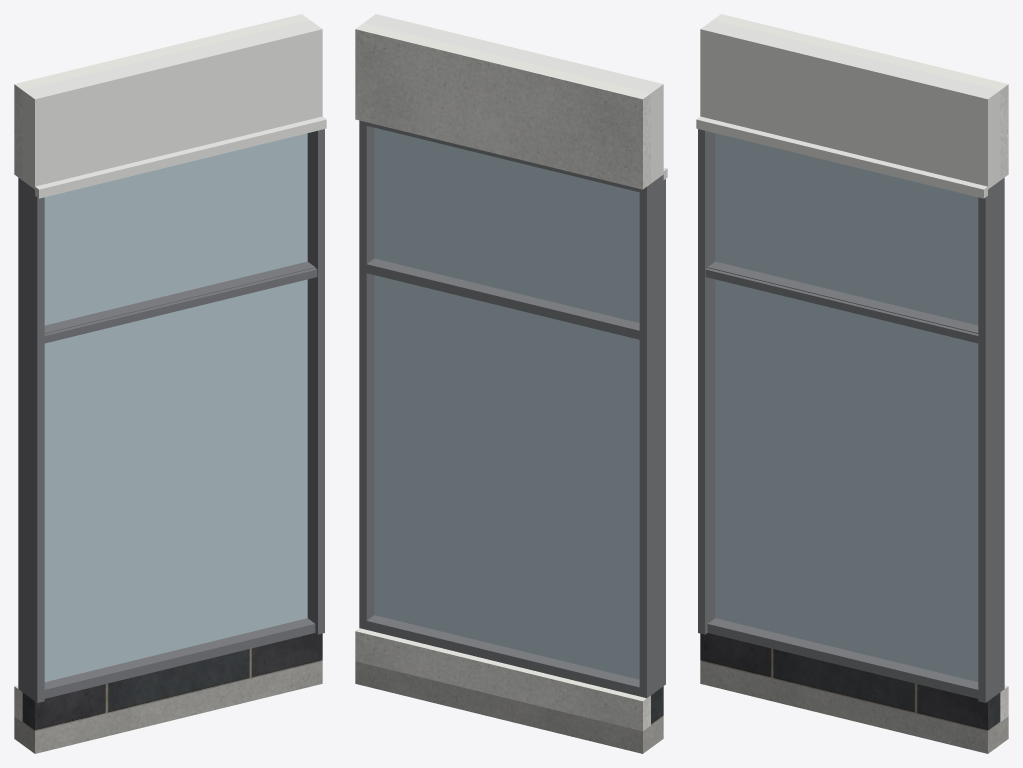
The model's file is s_win.glb.
3 views of the same model, side by side, from view 1: azimuth 30°, elevation 25°; view 2: azimuth 150°, elevation 25°; view 3: azimuth 330°, elevation 25° (orthographic).
Visible parts, largest first — view 1: s_win_glass, s_win_panel_w, s_win_mull, s_win_block_d, s_win_concrete, s_win_plaster; view 2: s_win_glass, s_win_plaster, s_win_mull, s_win_concrete, s_win_panel_w; view 3: s_win_glass, s_win_panel_w, s_win_mull, s_win_block_d, s_win_concrete, s_win_plaster.
Boxes of the visible parts, x1=… form: s_win_glass: x1=44, y1=133, x2=307, y2=681; s_win_panel_w: x1=22, y1=20, x2=326, y2=198; s_win_mull: x1=18, y1=129, x2=324, y2=702; s_win_block_d: x1=22, y1=633, x2=322, y2=731; s_win_concrete: x1=14, y1=661, x2=322, y2=753; s_win_plaster: x1=14, y1=14, x2=309, y2=721; s_win_glass: x1=374, y1=127, x2=639, y2=679; s_win_plaster: x1=355, y1=23, x2=650, y2=731; s_win_mull: x1=359, y1=120, x2=665, y2=698; s_win_concrete: x1=355, y1=661, x2=663, y2=753; s_win_panel_w: x1=364, y1=14, x2=667, y2=183; s_win_glass: x1=715, y1=133, x2=978, y2=681; s_win_panel_w: x1=696, y1=20, x2=1000, y2=198; s_win_mull: x1=698, y1=129, x2=1004, y2=702; s_win_block_d: x1=700, y1=633, x2=1000, y2=731; s_win_concrete: x1=700, y1=661, x2=1008, y2=753; s_win_plaster: x1=713, y1=14, x2=1008, y2=721.
Size of the model in its own units: 2 by 4.35 by 0.3.
6 materials, 3 textured.
